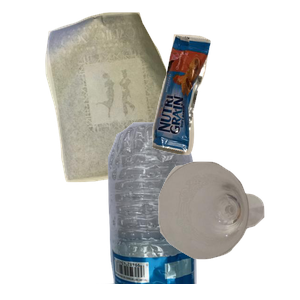glass: (156, 159, 300, 300)
paper: (43, 10, 221, 185)
plastic: (96, 120, 285, 300)
trash: (149, 31, 300, 179)
